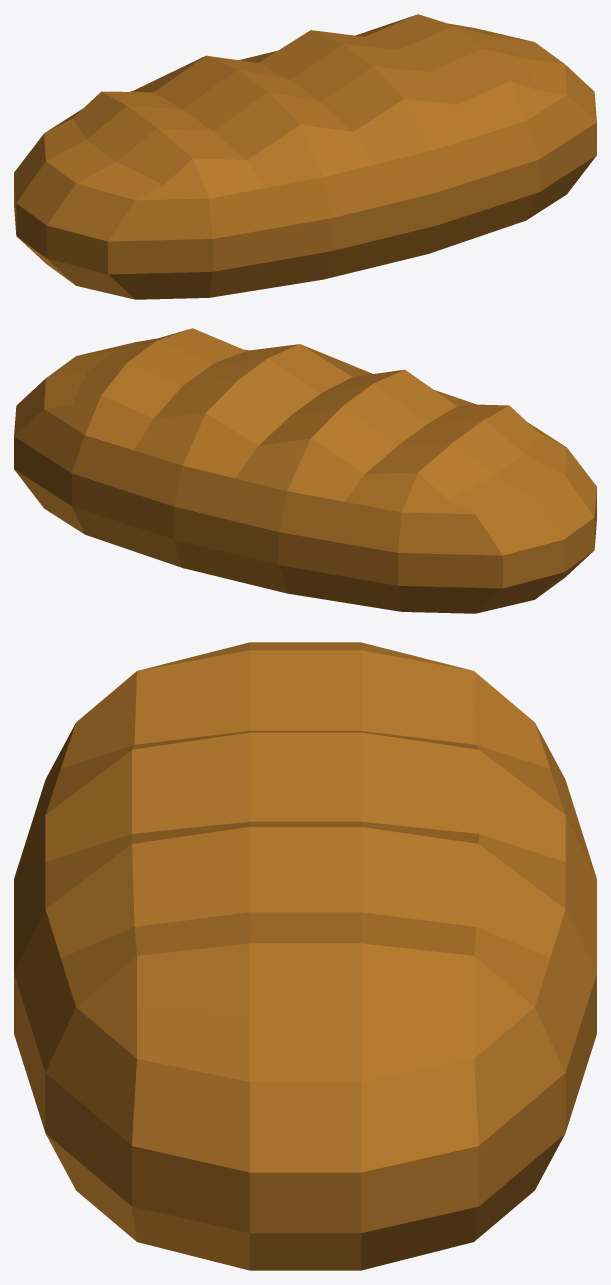
The model's file is Хлеб (полный).fbx.
The picture shows the model from 3 angles, top to bottom: view 1: azimuth 30°, elevation 25°; view 2: azimuth 150°, elevation 25°; view 3: azimuth 270°, elevation 25°; orthographic projection. The views are drawn at different scales.
Parts seen in each view (by area): view 1: Cube; view 2: Cube; view 3: Cube.
Part boxes in pixels (bbox=[...]): Cube: bbox=[14, 14, 596, 299]; Cube: bbox=[14, 328, 596, 613]; Cube: bbox=[14, 642, 596, 1270].
Size of the model in its own units: 400 by 103 by 200.
